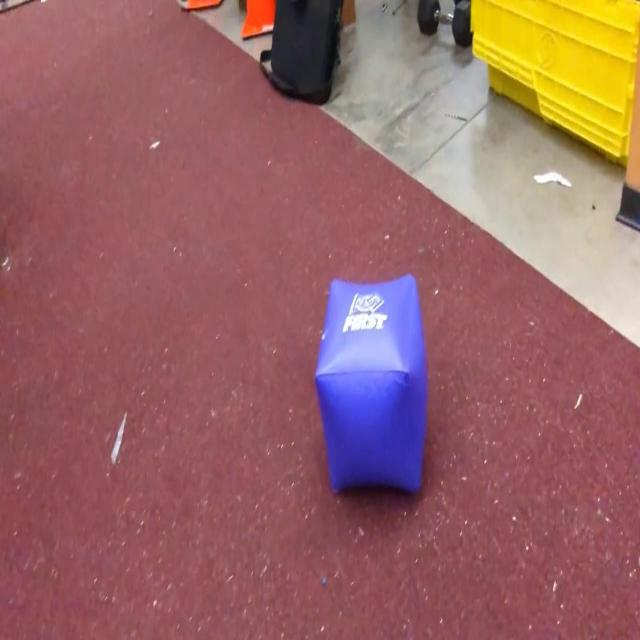frc_cube: (314, 275, 428, 496)
